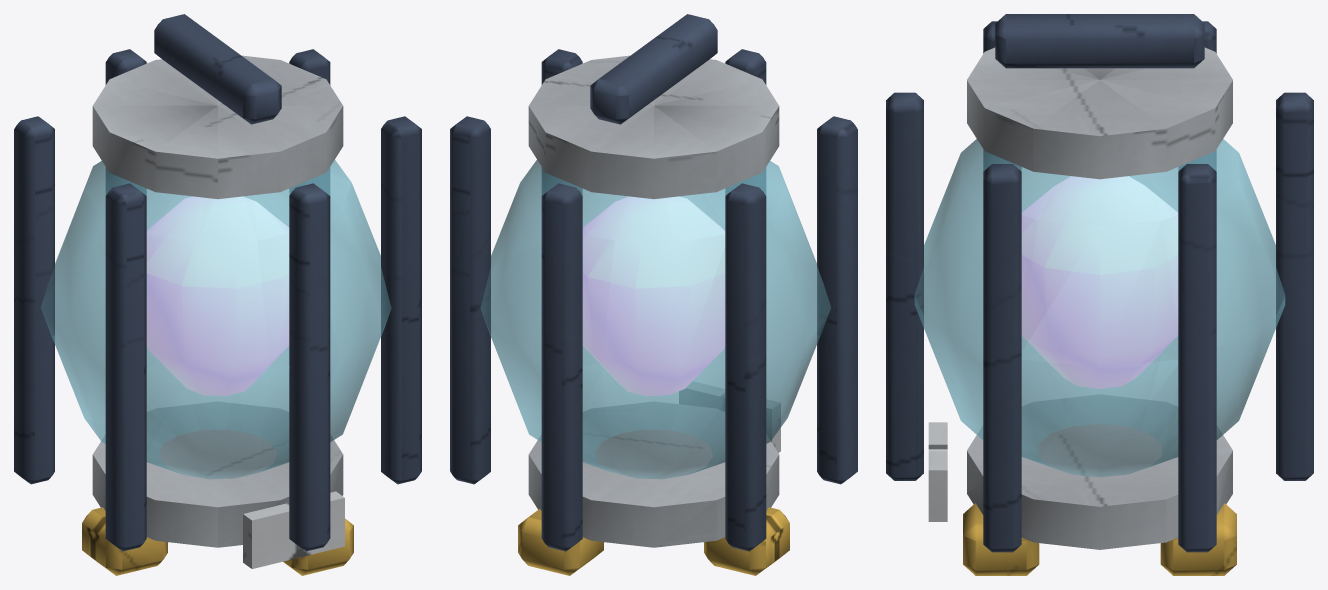
File: fragile_bio_sample.glb
3 views of the same model, side by side, from view 1: azimuth 30°, elevation 25°; view 2: azimuth 150°, elevation 25°; view 3: azimuth 270°, elevation 25° (orthographic). The views are drawn at different scales.
Visible parts, largest first — view 1: DL004_FragileBioSample_graphite_navy, DL004_FragileBioSample_glass_cyan, DL004_FragileBioSample_titanium, DL004_FragileBioSample_specimen_violet, DL004_FragileBioSample_amber_accent, DL004_FragileBioSample_hull_offwhite; view 2: DL004_FragileBioSample_graphite_navy, DL004_FragileBioSample_glass_cyan, DL004_FragileBioSample_titanium, DL004_FragileBioSample_specimen_violet, DL004_FragileBioSample_amber_accent, DL004_FragileBioSample_hull_offwhite; view 3: DL004_FragileBioSample_glass_cyan, DL004_FragileBioSample_graphite_navy, DL004_FragileBioSample_titanium, DL004_FragileBioSample_specimen_violet, DL004_FragileBioSample_amber_accent, DL004_FragileBioSample_hull_offwhite.
Part boxes in pixels (x1=…): DL004_FragileBioSample_graphite_navy: x1=14, y1=14, x2=421, y2=551; DL004_FragileBioSample_glass_cyan: x1=41, y1=160, x2=391, y2=479; DL004_FragileBioSample_titanium: x1=92, y1=55, x2=343, y2=547; DL004_FragileBioSample_specimen_violet: x1=146, y1=196, x2=289, y2=395; DL004_FragileBioSample_amber_accent: x1=82, y1=507, x2=353, y2=575; DL004_FragileBioSample_hull_offwhite: x1=243, y1=491, x2=344, y2=568; DL004_FragileBioSample_graphite_navy: x1=450, y1=14, x2=857, y2=551; DL004_FragileBioSample_glass_cyan: x1=480, y1=160, x2=830, y2=479; DL004_FragileBioSample_titanium: x1=528, y1=55, x2=779, y2=547; DL004_FragileBioSample_specimen_violet: x1=582, y1=196, x2=725, y2=395; DL004_FragileBioSample_amber_accent: x1=518, y1=507, x2=789, y2=575; DL004_FragileBioSample_hull_offwhite: x1=679, y1=381, x2=780, y2=452; DL004_FragileBioSample_glass_cyan: x1=914, y1=139, x2=1285, y2=477; DL004_FragileBioSample_graphite_navy: x1=886, y1=14, x2=1313, y2=552; DL004_FragileBioSample_titanium: x1=967, y1=47, x2=1232, y2=549; DL004_FragileBioSample_specimen_violet: x1=1021, y1=176, x2=1178, y2=388; DL004_FragileBioSample_amber_accent: x1=963, y1=503, x2=1236, y2=575; DL004_FragileBioSample_hull_offwhite: x1=928, y1=422, x2=947, y2=521.
Bounding box in the file's own units: 0.4 × 0.605 × 0.45.
Materials: 6 (4 with a texture image).
